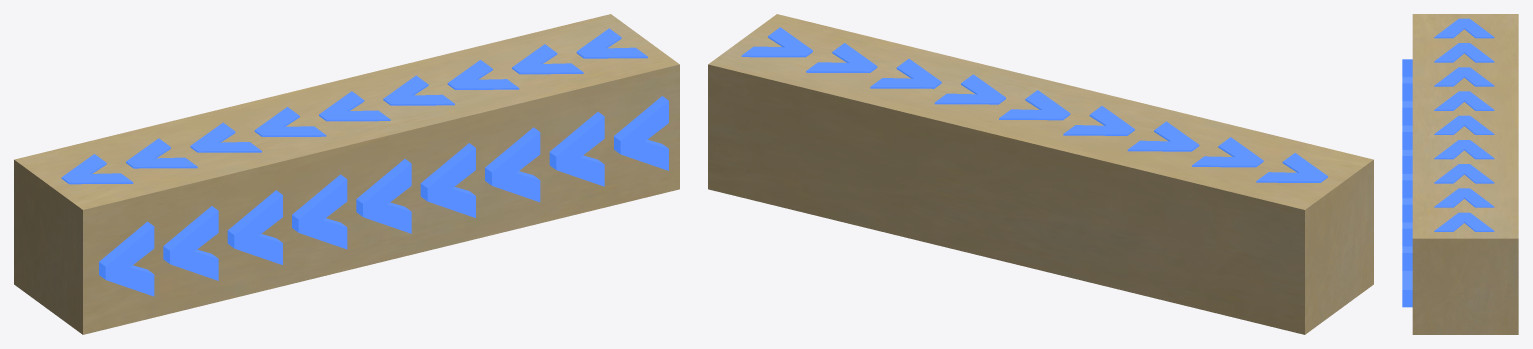
The model's file is speeddown.fbx.
The picture shows the model from 3 angles, left to right: view 1: azimuth 30°, elevation 25°; view 2: azimuth 150°, elevation 25°; view 3: azimuth 270°, elevation 25°; orthographic projection. The views are drawn at different scales.
Parts seen in each view (by area): view 1: tile, arrow2, arrow1; view 2: tile, arrow1; view 3: tile, arrow1, arrow2.
Boxes of the visible parts, x1,y1,x2,y2 form: tile: (14,14,679,334); arrow2: (99,96,668,296); arrow1: (61,28,647,184); tile: (708,14,1373,334); arrow1: (741,27,1327,182); tile: (1412,14,1518,334); arrow1: (1434,18,1494,231); arrow2: (1402,59,1412,307).
Bounding box in the file's own units: 500 × 101 × 110.
2 materials, 1 textured.
